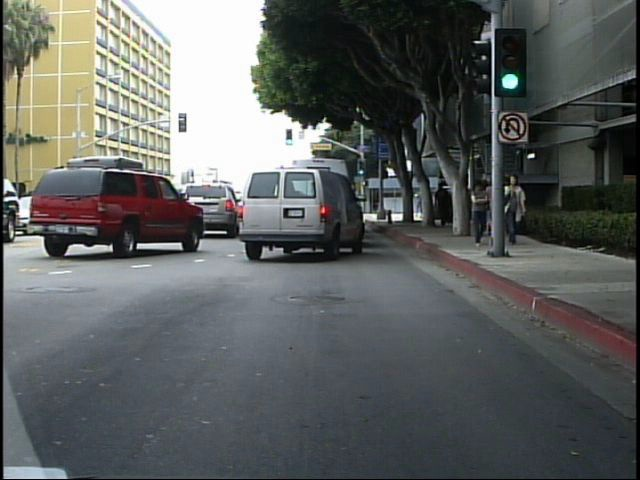person: (503, 170, 528, 252), (484, 173, 507, 250), (504, 172, 526, 244), (470, 174, 490, 244), (433, 175, 455, 230), (412, 185, 424, 217)
